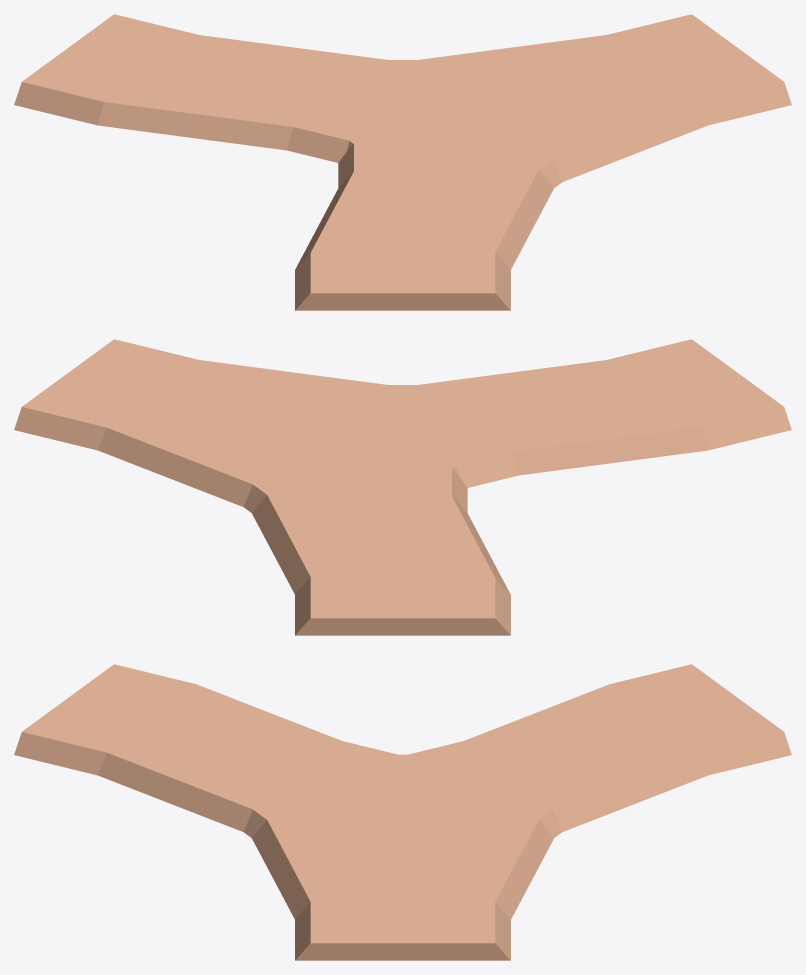
The model's file is path_intersectionF.glb.
The picture shows the model from 3 angles, top to bottom: view 1: azimuth 30°, elevation 25°; view 2: azimuth 150°, elevation 25°; view 3: azimuth 270°, elevation 25°; orthographic projection.
Parts seen in each view (by area): view 1: path_intersectionF; view 2: path_intersectionF; view 3: path_intersectionF.
Boxes of the visible parts, x1,y1,x2,y2 form: path_intersectionF: [14, 14, 791, 310]; path_intersectionF: [14, 339, 791, 635]; path_intersectionF: [14, 664, 791, 960].
Size of the model in its own units: 0.8708 by 0.025 by 1.01.
